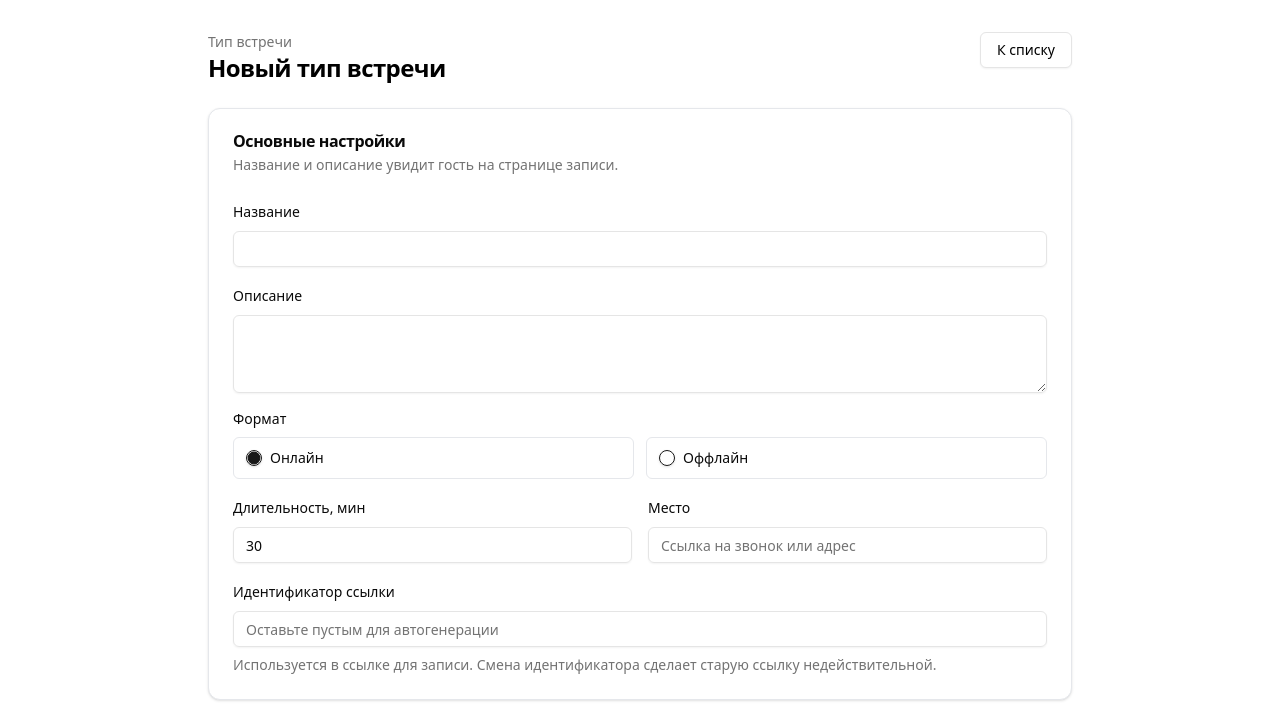
it: MeetingTypeEditorPage › shows a slug conflict next to the slug field
In the field labelled "Название": (640, 249) [233,231,1047,267], type "Консультация"
(page scrolled)
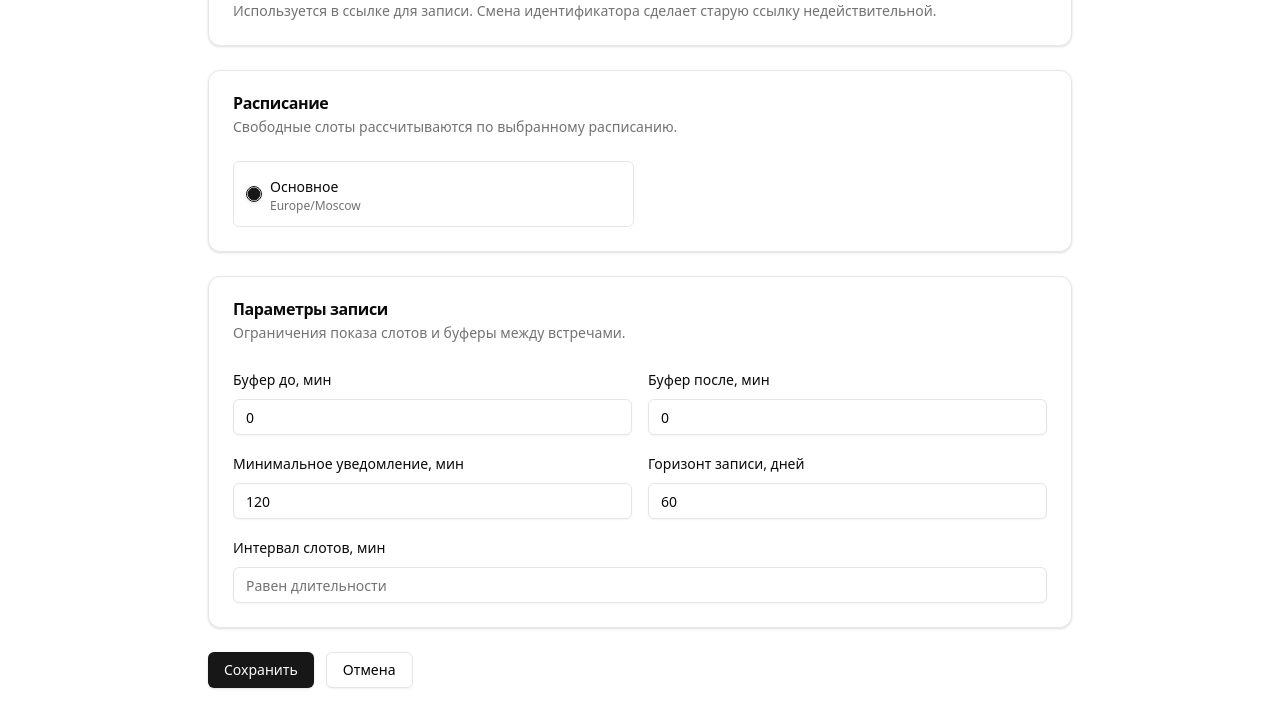
Click the button "Сохранить": (261, 670) [208,652,314,688]
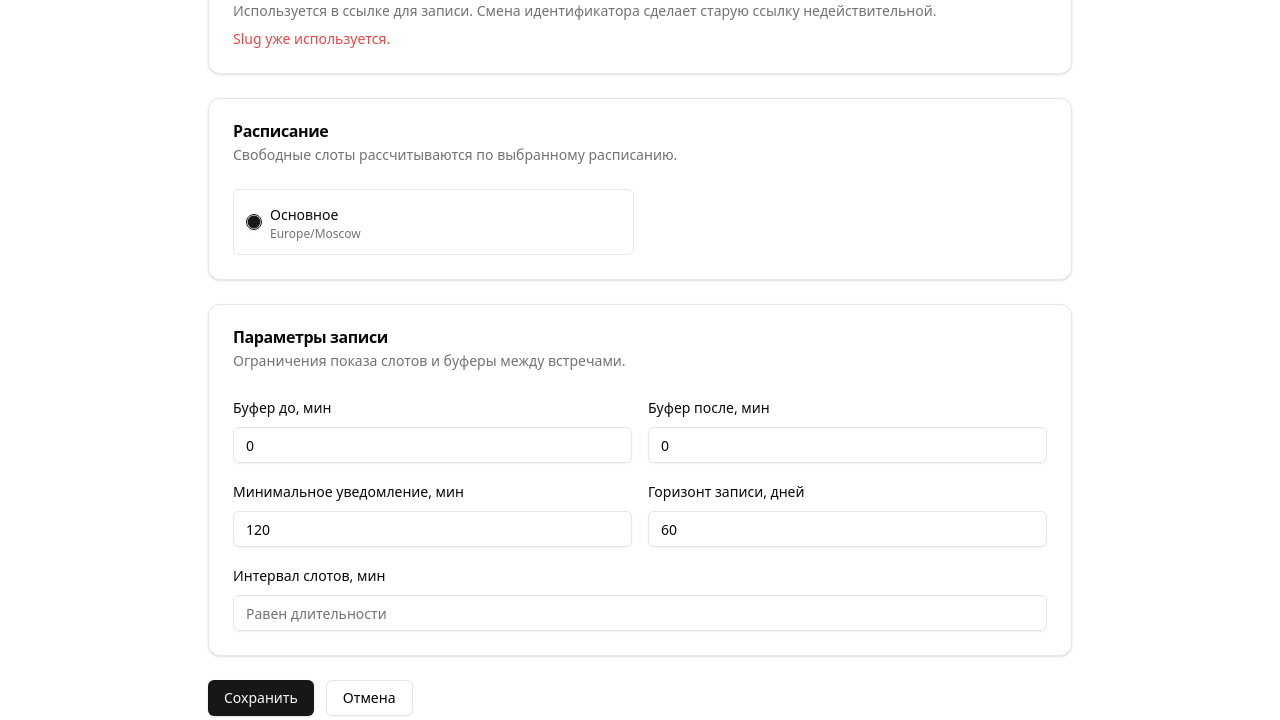
Expected: the text "Slug уже используется." is shown, [233,29,390,48]
